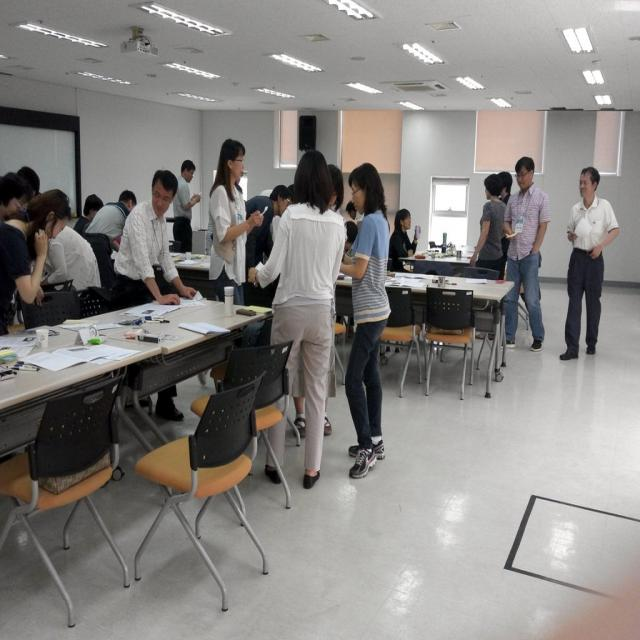chair: (0, 366, 129, 627), (132, 377, 270, 611), (203, 341, 295, 507), (423, 286, 475, 400), (378, 286, 421, 399), (85, 233, 116, 292)
desk: (4, 300, 271, 408)
person: (252, 147, 346, 489), (338, 160, 393, 480), (110, 170, 202, 307), (560, 165, 620, 363), (208, 138, 270, 304), (501, 156, 550, 352), (0, 174, 48, 335), (35, 189, 101, 293), (469, 172, 510, 276), (85, 191, 136, 252), (171, 160, 201, 258), (388, 208, 421, 268)
